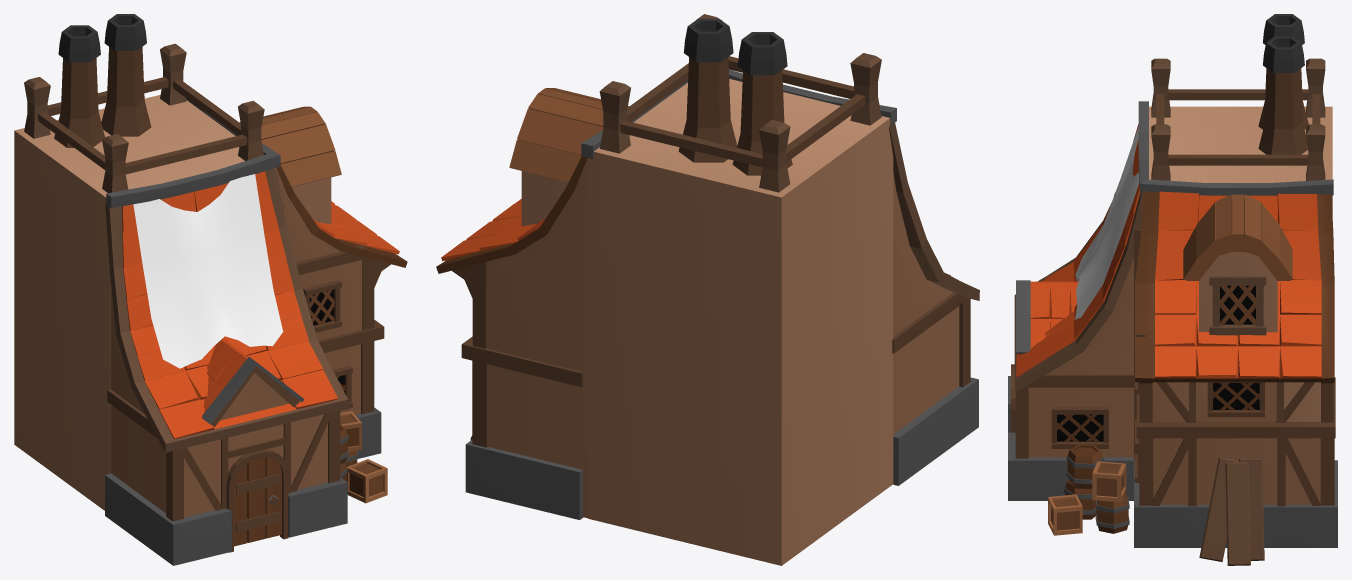
File: Town Hall Level 8.glb
The picture shows the model from 3 angles, left to right: view 1: azimuth 30°, elevation 25°; view 2: azimuth 150°, elevation 25°; view 3: azimuth 270°, elevation 25°; orthographic projection. The views are drawn at different scales.
Parts seen in each view (by area): view 1: Town Hall Level 8 Base, Flag.008, Door.008; view 2: Town Hall Level 8 Base; view 3: Town Hall Level 8 Base, Flag.008.
Part boxes in pixels (<box>): Town Hall Level 8 Base: <box>14,14,407,565</box>; Flag.008: <box>133,174,283,368</box>; Door.008: <box>234,457,281,546</box>; Town Hall Level 8 Base: <box>436,14,979,565</box>; Town Hall Level 8 Base: <box>1008,14,1337,565</box>; Flag.008: <box>1075,126,1139,319</box>.
Size of the model in its own units: 6.98 by 8.99 by 6.37.
2 materials, 2 textured.
